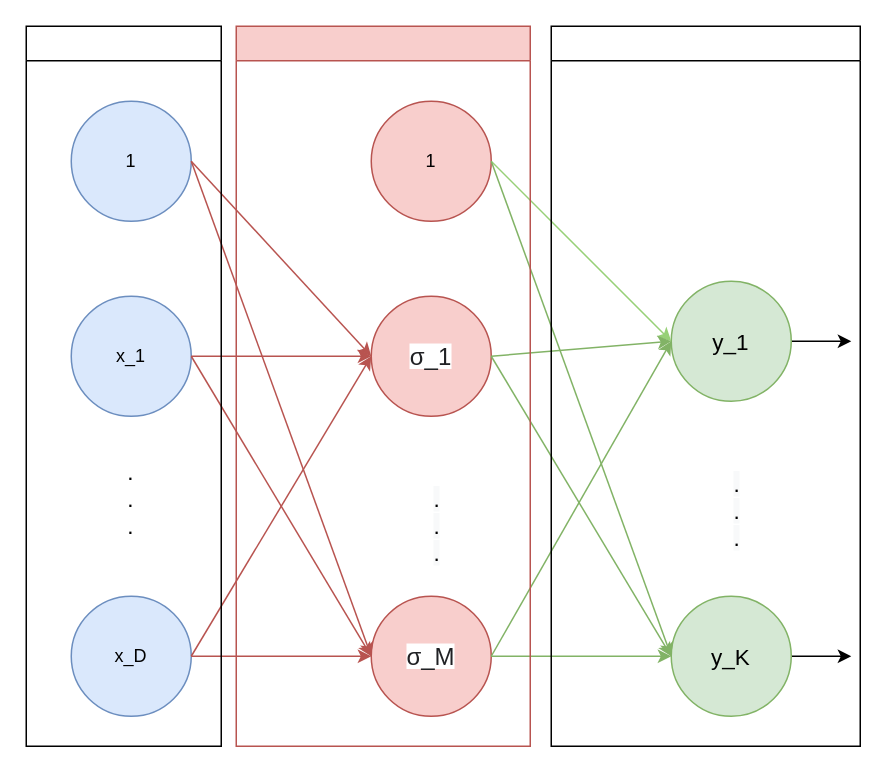
Image size: 890x773. Some labels were removed from this diagram. The shapes that lost their labels are listed below. From the top down, each one's centre as x and y in pixels, then its label:
(x=123, y=385): Capa entrada
(x=382, y=385): Capa oculta
(x=705, y=385): Capa salida
